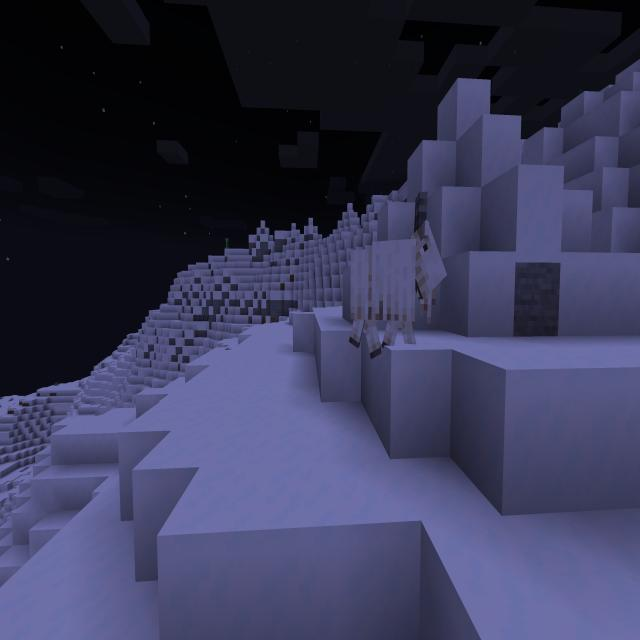Goat: (347, 188, 449, 364)
